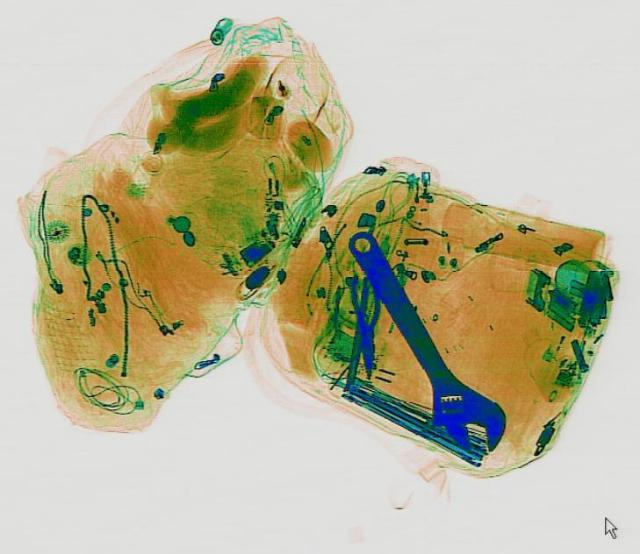Pliers: (348, 272, 384, 378)
Wrench: (320, 218, 522, 464)
